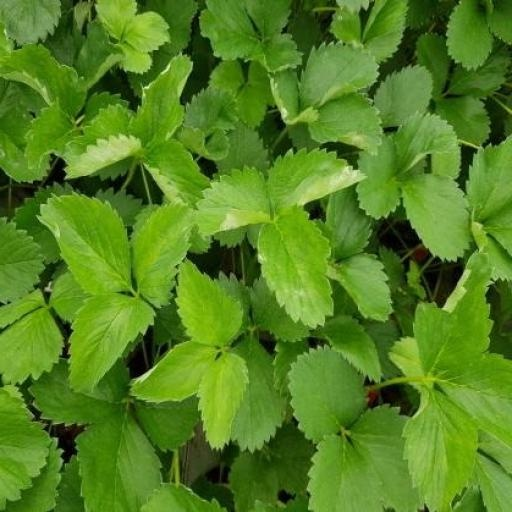Powdery Mildew Leaf: (177, 205, 255, 330), (143, 145, 244, 221), (316, 50, 383, 158), (369, 101, 449, 178), (238, 165, 319, 235), (293, 340, 383, 402), (193, 67, 246, 127)
